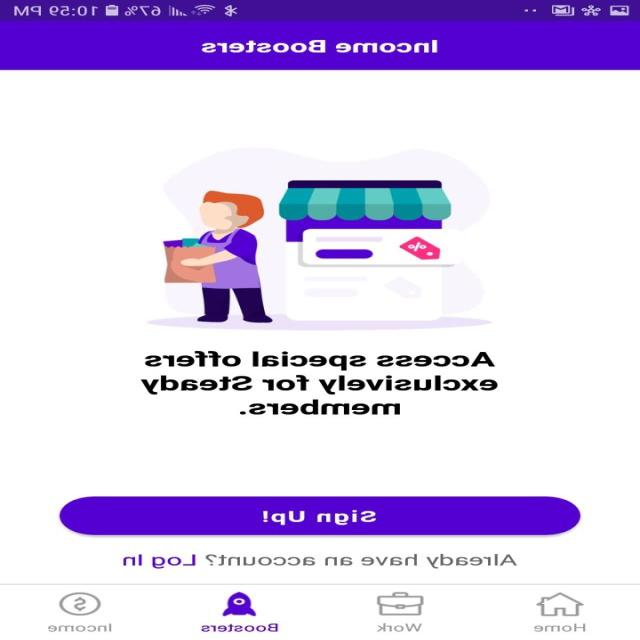Icon: (536, 591, 585, 616), (377, 592, 425, 616), (59, 592, 102, 616)
Image: (146, 147, 494, 330), (222, 591, 258, 616)
Text: (140, 350, 498, 414), (124, 553, 518, 568), (202, 40, 439, 53), (202, 622, 280, 632), (48, 622, 112, 632), (534, 622, 587, 632), (377, 622, 423, 632)
TextButton: (59, 496, 580, 535)
